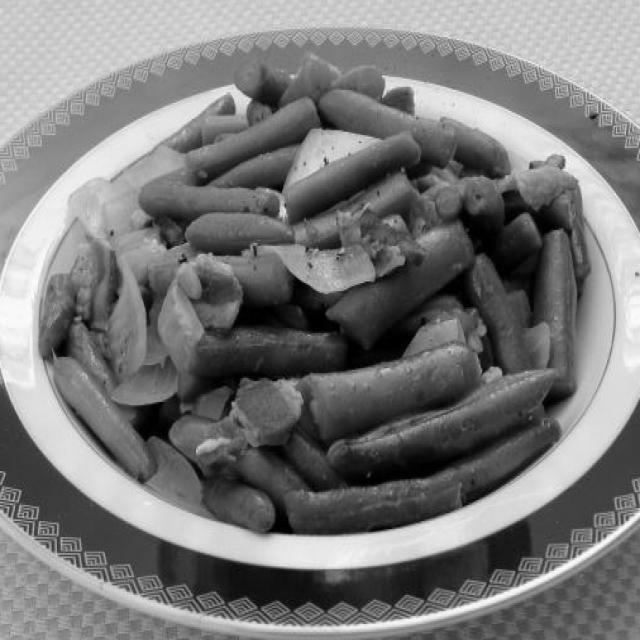Beans: (27, 53, 617, 544)
